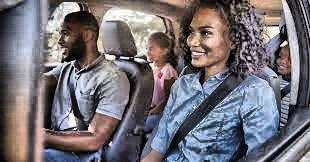seatbelt: (159, 31, 288, 159), (64, 62, 84, 130), (277, 79, 297, 96)
